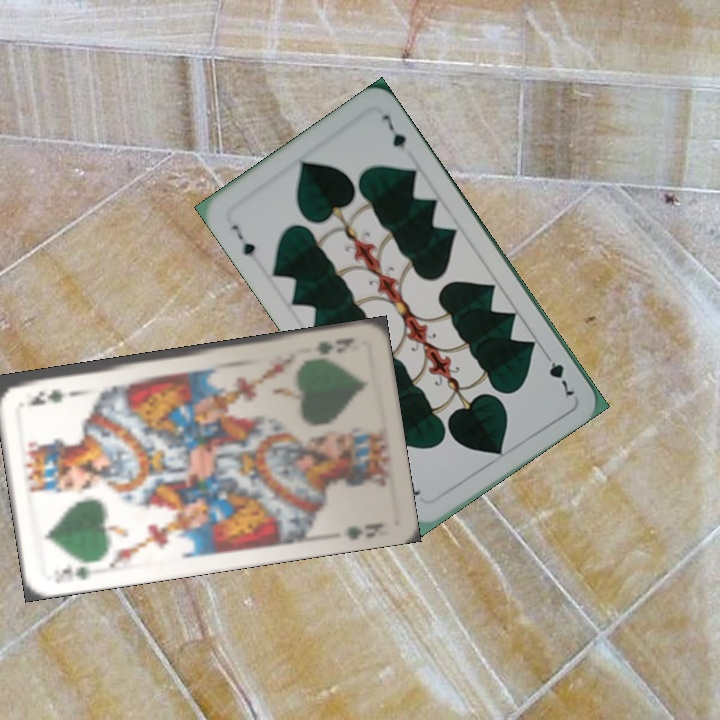G7: (539, 347, 578, 399), (227, 220, 258, 260)
GK: (50, 560, 95, 586), (310, 333, 358, 357)
